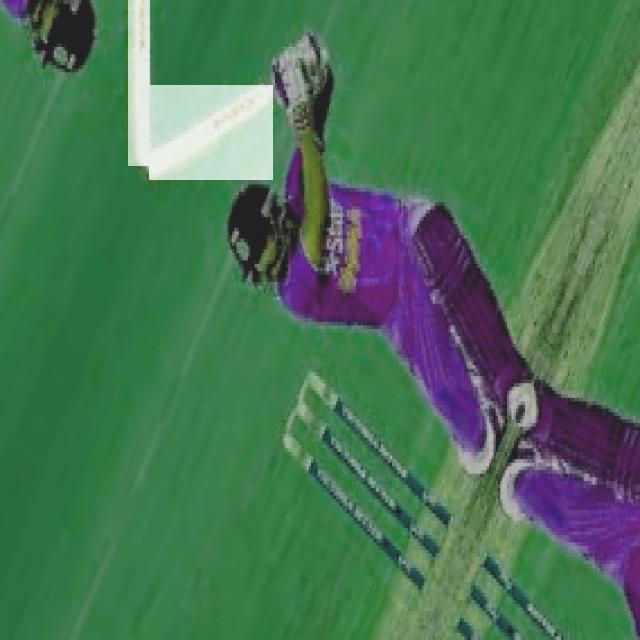bat: (137, 83, 273, 183)
toe: (142, 158, 160, 179)
